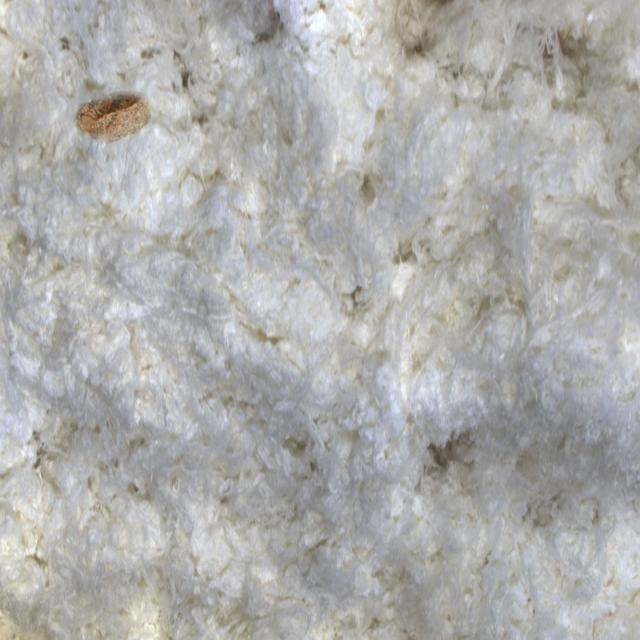dust: (43, 45, 172, 190)
